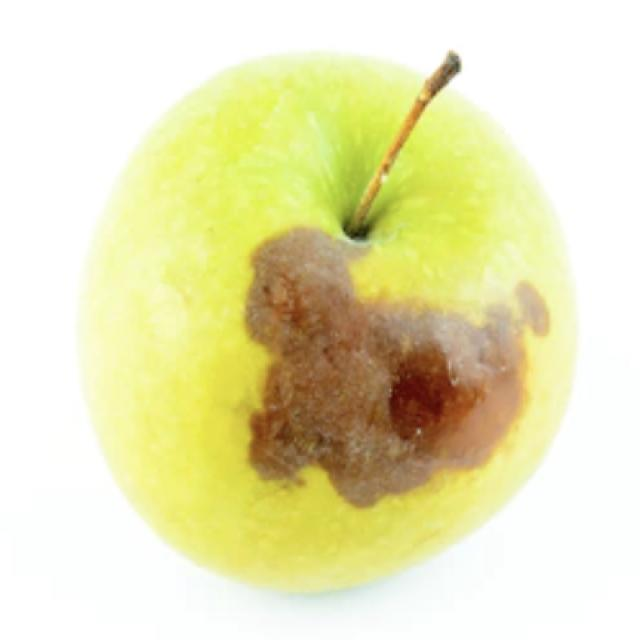Rotten: (77, 52, 573, 593)
